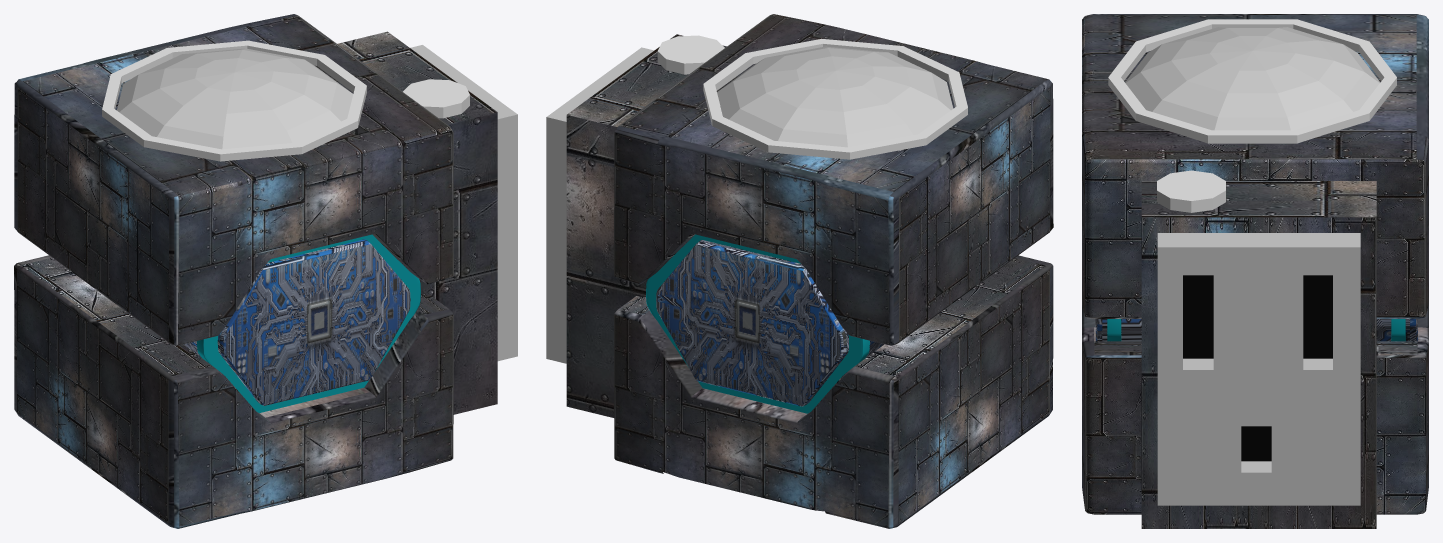
File: PowerBox2.fbx
The picture shows the model from 3 angles, left to right: view 1: azimuth 30°, elevation 25°; view 2: azimuth 150°, elevation 25°; view 3: azimuth 270°, elevation 25°; orthographic projection. The views are drawn at different scales.
Visible parts, largest first — view 1: pCube10, pCube9, pCube11, polySurface5, pCube2, polySurface4, polySurface7, pCube7, pCylinder6; view 2: pCube10, pCube9, pCube11, pCube2, polySurface5, polySurface4, polySurface7, pCube8, pCylinder6; view 3: polySurface7, pCube10, pCube2, polySurface5, pCube9, polySurface4, polySurface9, polySurface8, pCylinder6, pCube11, polySurface10.
Part boxes in pixels (bbox=[...]): pCube10: bbox=[14, 14, 453, 345]; pCube9: bbox=[14, 255, 453, 528]; pCube11: bbox=[183, 239, 410, 405]; polySurface5: bbox=[117, 48, 353, 149]; pCube2: bbox=[337, 31, 497, 414]; polySurface4: bbox=[102, 40, 366, 161]; polySurface7: bbox=[410, 45, 517, 361]; pCube7: bbox=[197, 234, 420, 412]; pCylinder6: bbox=[403, 79, 469, 118]; pCube10: bbox=[614, 14, 1053, 345]; pCube9: bbox=[614, 255, 1053, 528]; pCube11: bbox=[656, 240, 883, 406]; pCube2: bbox=[566, 34, 726, 417]; polySurface5: bbox=[717, 46, 953, 147]; polySurface4: bbox=[703, 38, 967, 159]; polySurface7: bbox=[546, 47, 653, 363]; pCube8: bbox=[646, 234, 869, 413]; pCylinder6: bbox=[657, 35, 724, 74]; polySurface7: bbox=[1157, 233, 1360, 505]; pCube10: bbox=[1082, 14, 1428, 318]; pCube2: bbox=[1141, 181, 1376, 528]; polySurface5: bbox=[1125, 27, 1380, 130]; pCube9: bbox=[1082, 303, 1428, 514]; polySurface4: bbox=[1108, 19, 1396, 143]; polySurface9: bbox=[1183, 275, 1213, 358]; polySurface8: bbox=[1303, 275, 1332, 358]; pCylinder6: bbox=[1157, 170, 1225, 212]; pCube11: bbox=[1095, 319, 1417, 341]; polySurface10: bbox=[1241, 426, 1271, 461].
Bounding box in the file's own units: 3.37 × 3.12 × 2.5.
